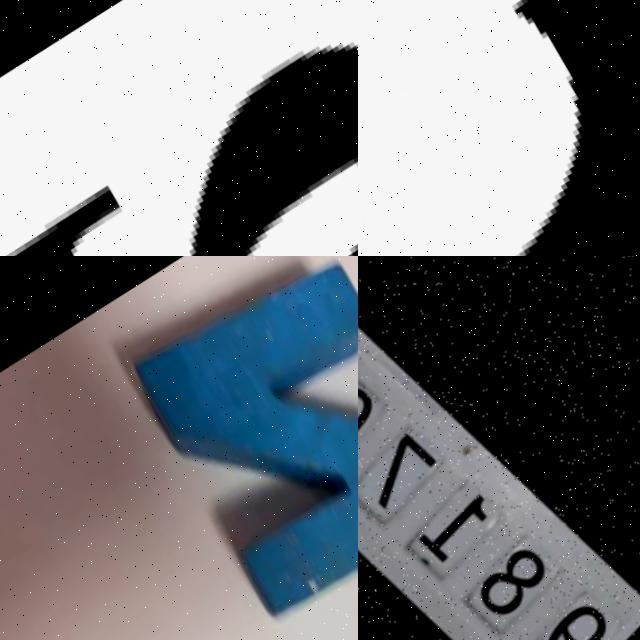0: (358, 360, 415, 478)
1: (404, 468, 536, 587)
2: (0, 0, 358, 256)
7: (358, 415, 470, 530)
8: (458, 523, 588, 640)
9: (522, 580, 640, 640)
N: (125, 256, 358, 625)
R: (358, 0, 640, 256)
